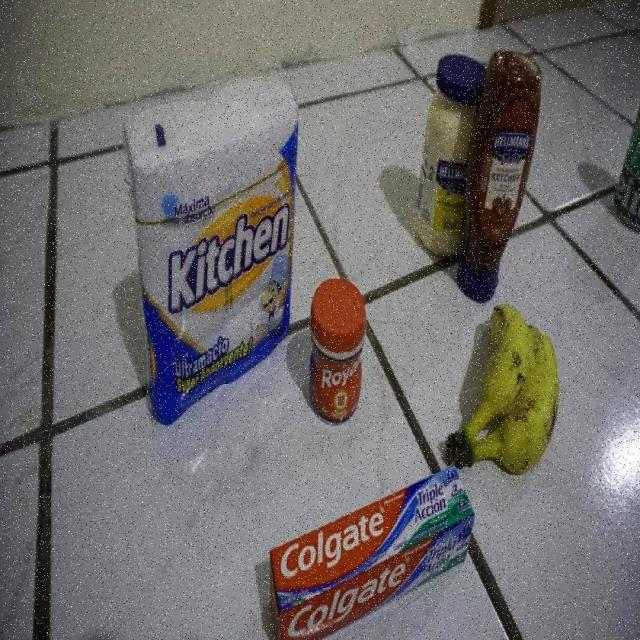Banana: (444, 304, 562, 474)
BeerCan: (611, 88, 640, 232)
Ketchup: (471, 46, 542, 306)
Mayonnaise: (418, 56, 466, 260)
Napkin: (128, 70, 300, 423)
Toothpaste: (270, 466, 474, 640)
Yeast: (306, 277, 366, 429)
